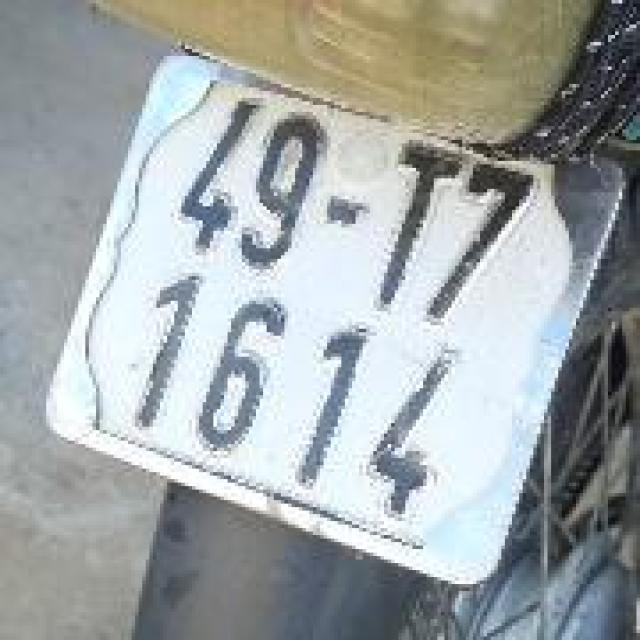1: (267, 304, 396, 531), (96, 264, 226, 460)
6: (337, 341, 497, 555), (174, 268, 319, 487), (158, 75, 285, 268)
7: (406, 145, 556, 354)
9: (223, 89, 351, 299)
T: (360, 121, 470, 329)
